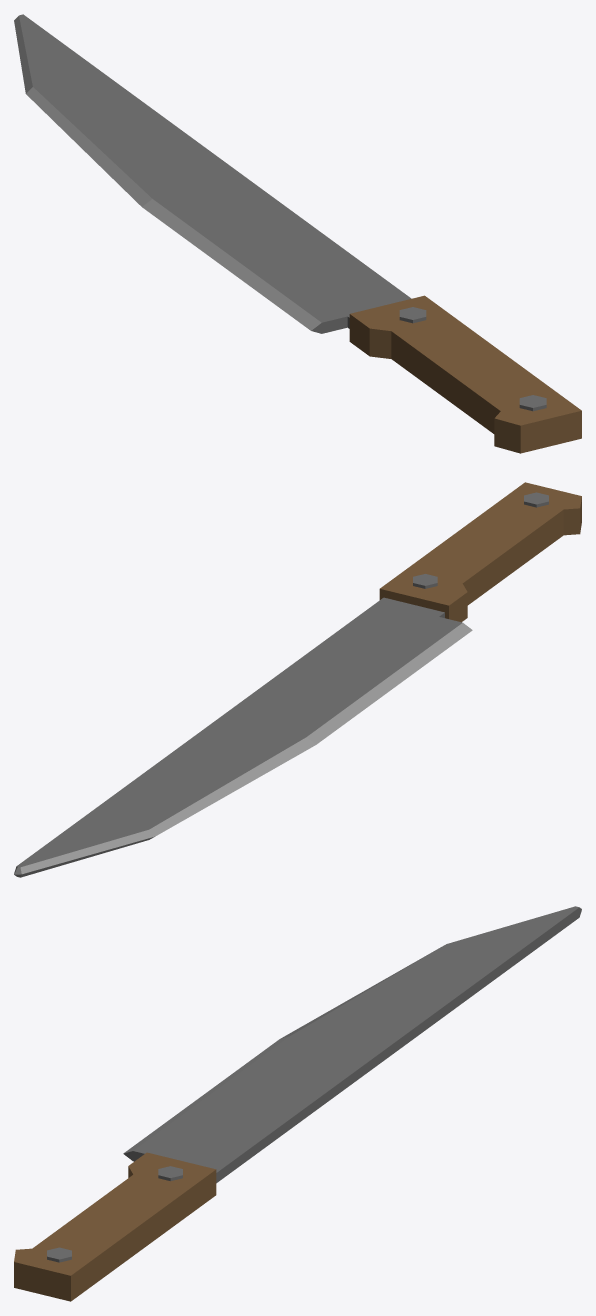
The model's file is Knife_02.fbx.
3 views of the same model, one above another, from view 1: azimuth 30°, elevation 25°; view 2: azimuth 150°, elevation 25°; view 3: azimuth 330°, elevation 25° (orthographic). The views are drawn at different scales.
Visible parts, largest first — view 1: Knife_02; view 2: Knife_02; view 3: Knife_02.
Part boxes in pixels (x1=…): Knife_02: x1=14, y1=14, x2=581, y2=453; Knife_02: x1=14, y1=482, x2=581, y2=877; Knife_02: x1=14, y1=906, x2=581, y2=1301.
Bounding box in the file's own units: 4.24 × 1.31 × 38.3.
